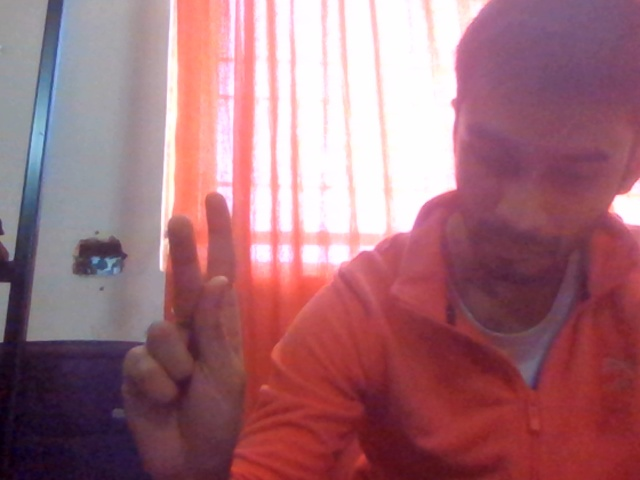K: (81, 169, 303, 480)
